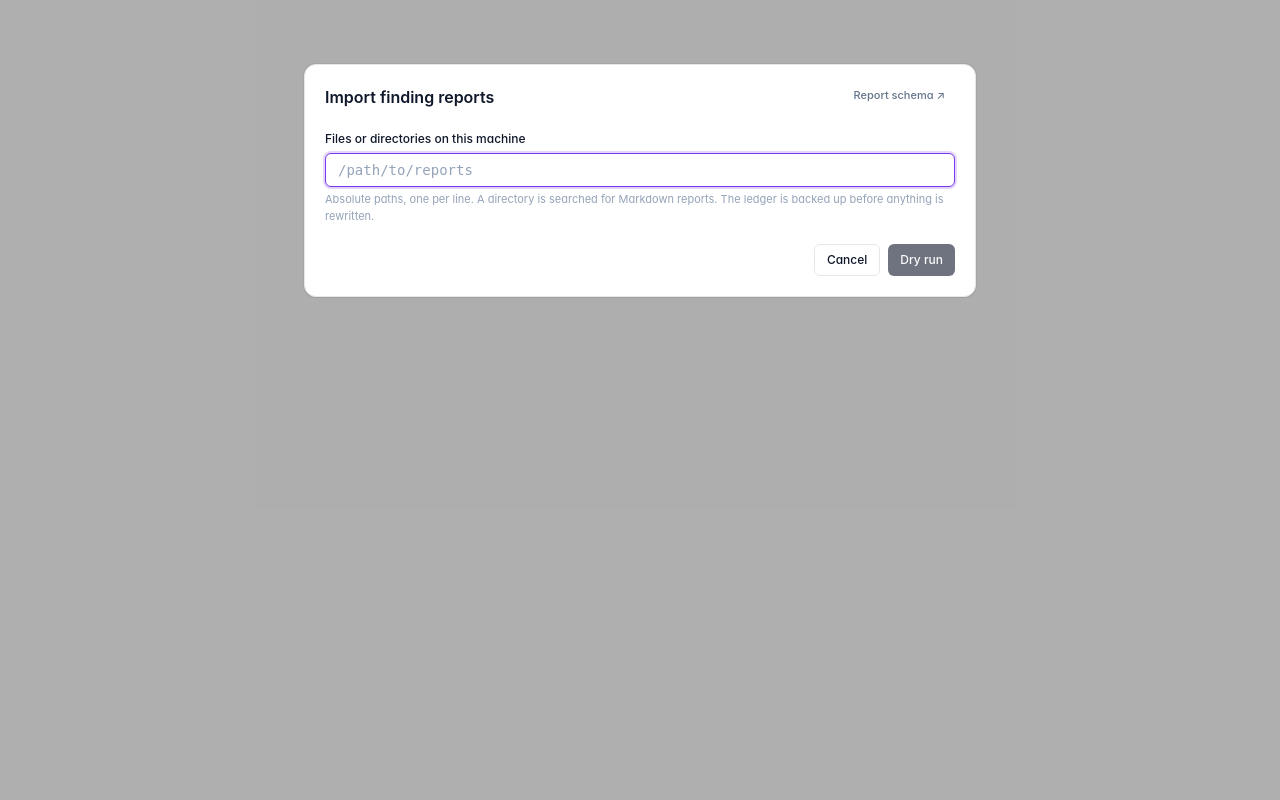
Scenario: ImportFindingsDialog › imports for real, shows the result and tells the owner to reload
The image size is (1280, 800).
Step 1. Type "/srv/reports/northwind" into the text box labelled "Files or directories on this machine" → [640, 170], box [325,153,955,187]
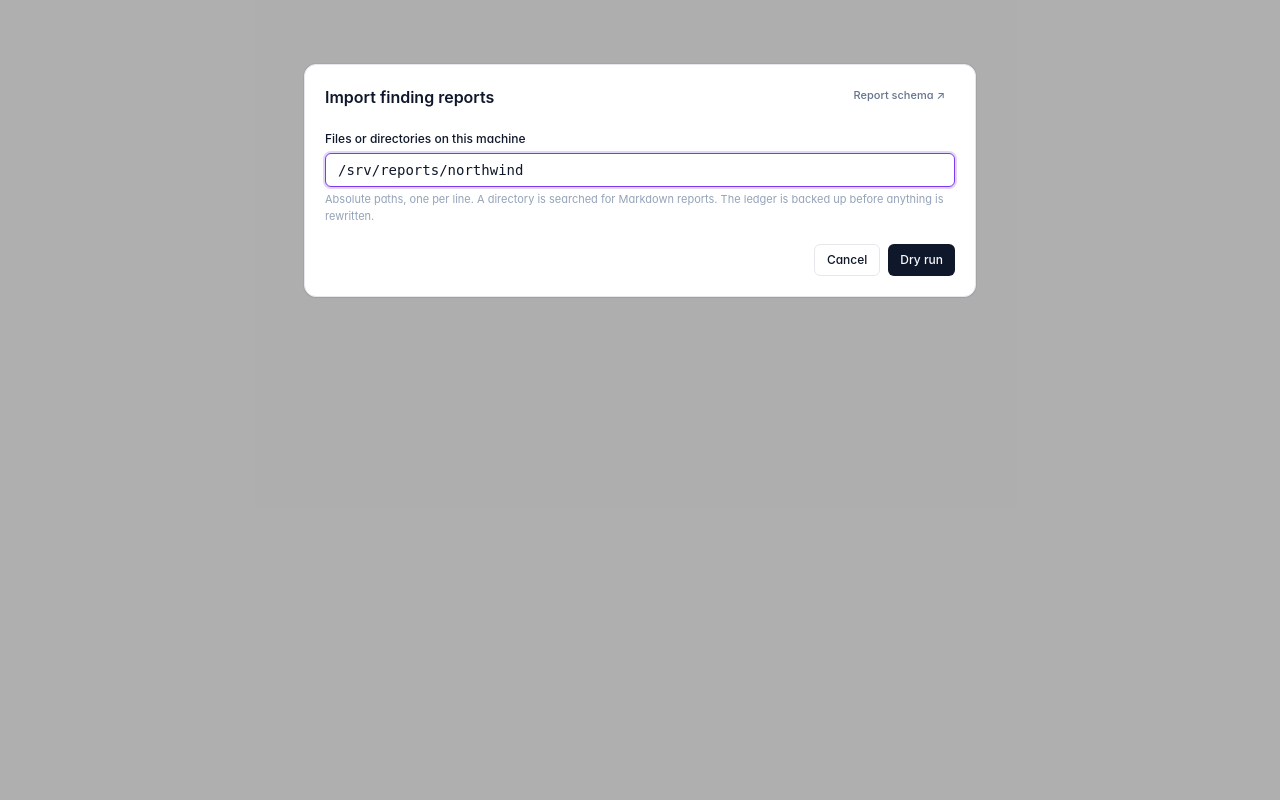
Step 2. Click the button "Dry run" → [922, 260], box [888,244,955,276]
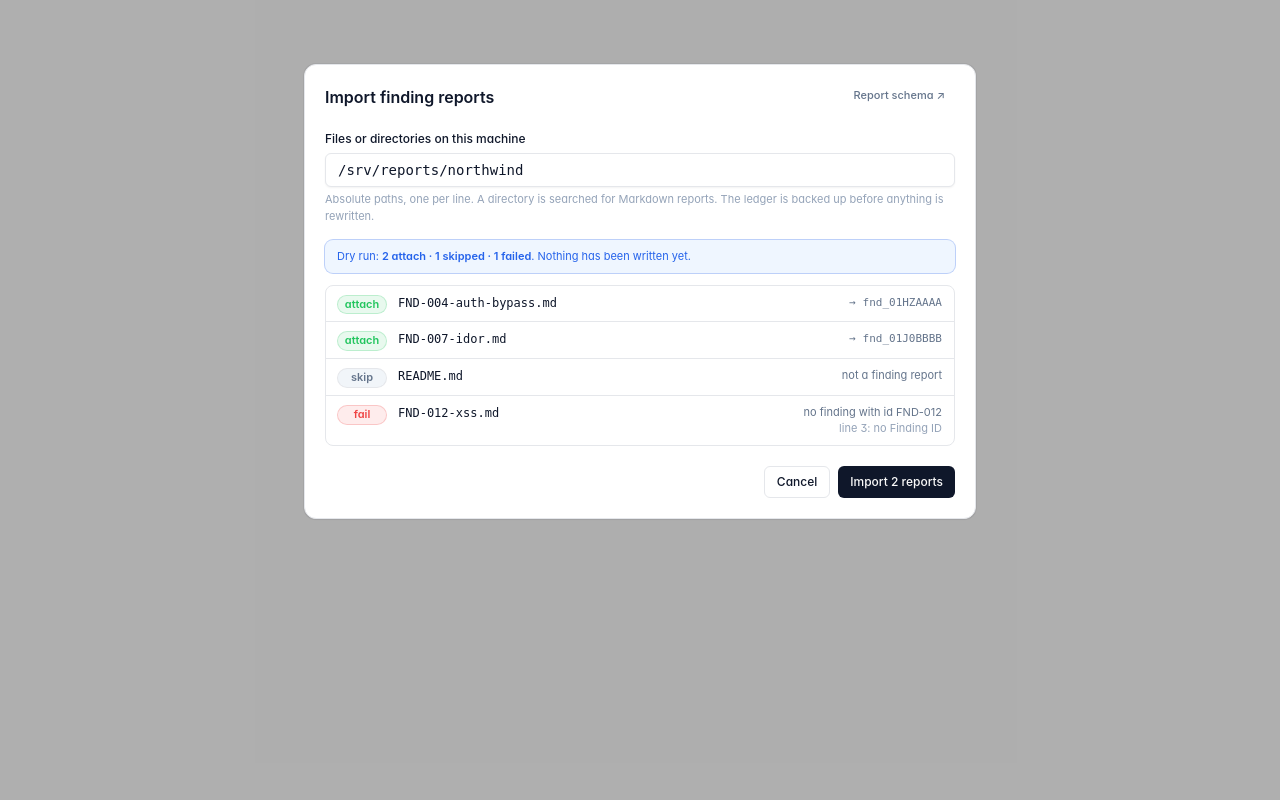
Step 3. Click the button "Import 2 reports" → [897, 482], box [838,466,955,498]
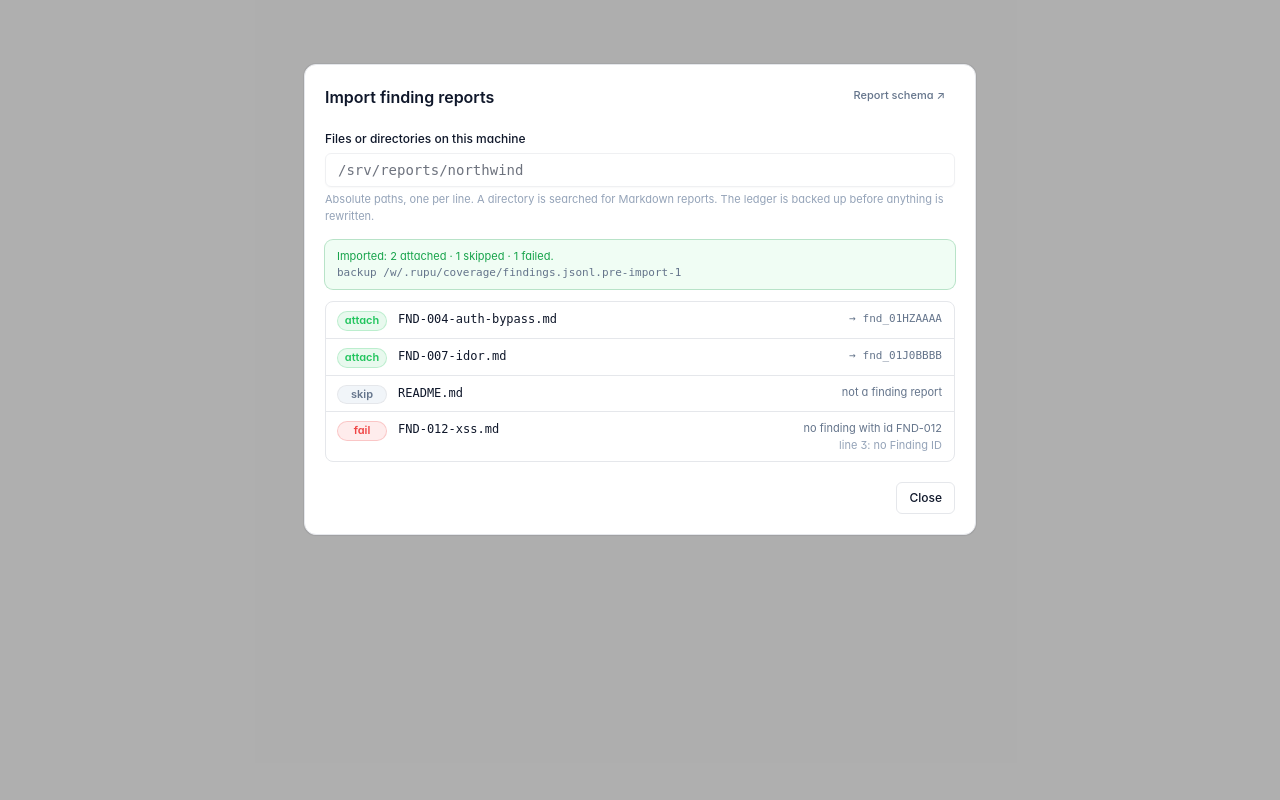
Result: the text "Imported: 2 attached · 1 skipped · 1 failed." is shown at [337,249,554,263]
Result: the text "backup /w/.rupu/coverage/findings.jsonl.pre-import-1" is shown at [337,266,681,278]
Result: the button "Close" is shown at [896,482,955,514]
